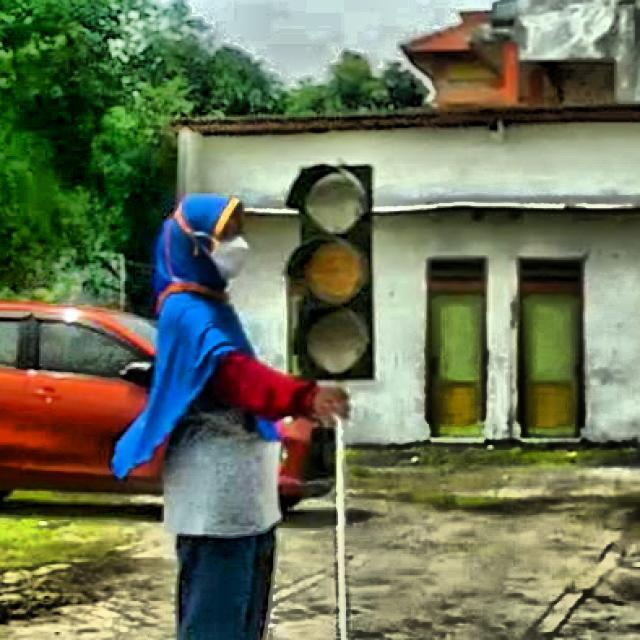yellow: (286, 161, 377, 383)
